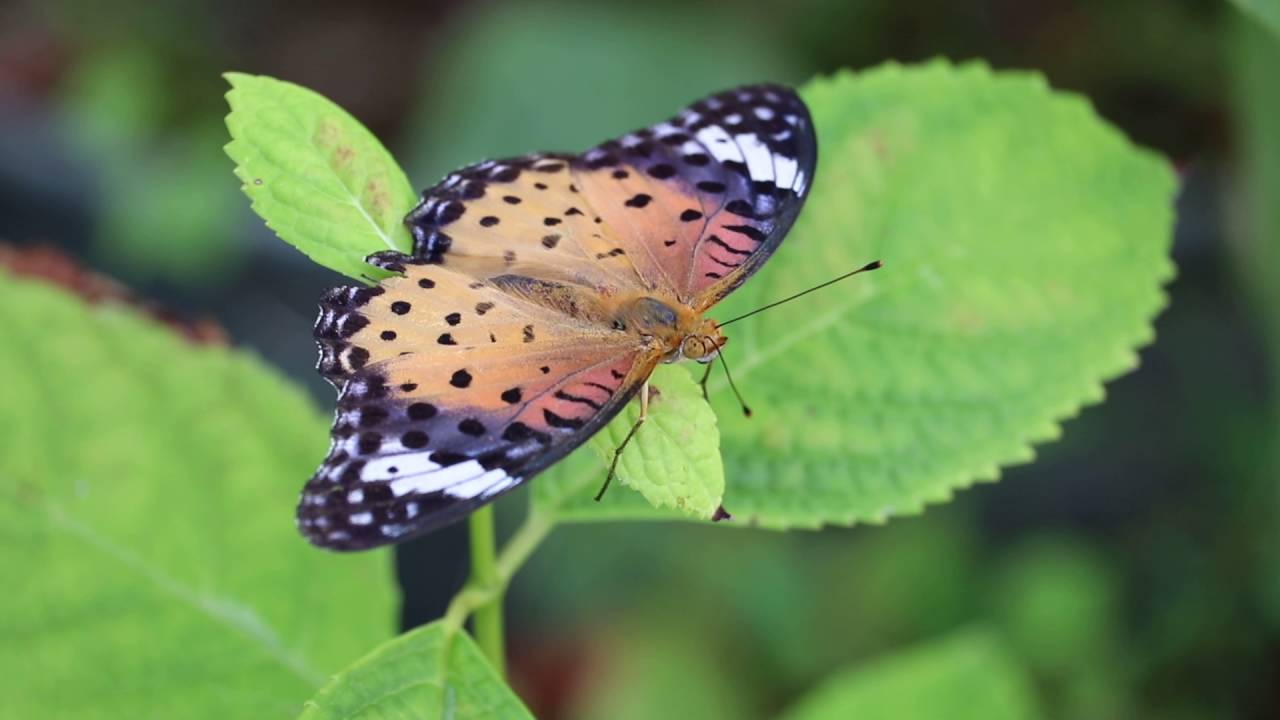Argyreus hyperbius: (287, 77, 891, 564)
butterfly: (285, 75, 889, 562)
